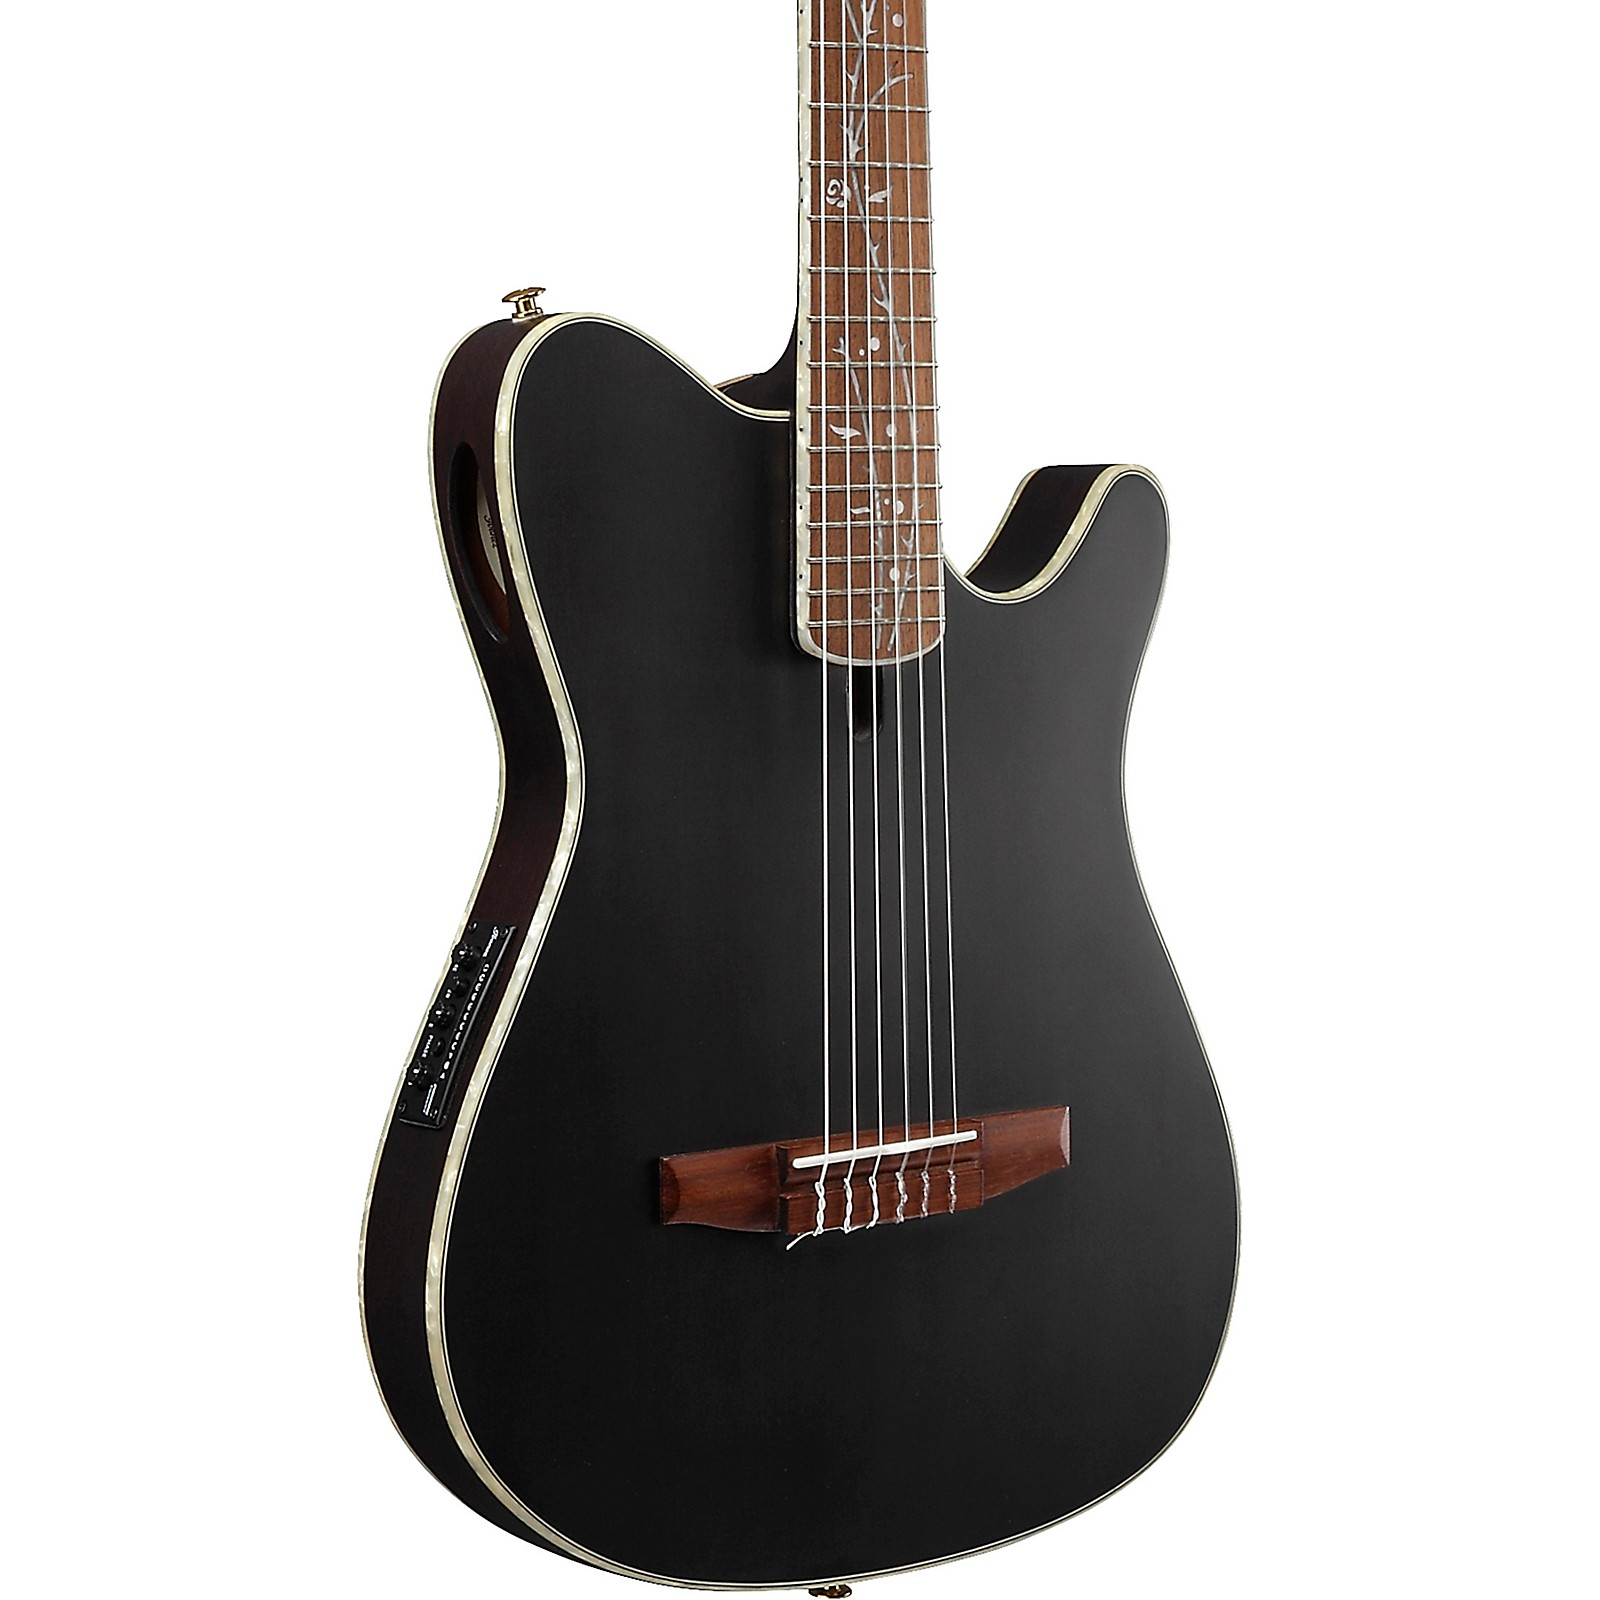guitar: (355, 223, 1361, 1597)
